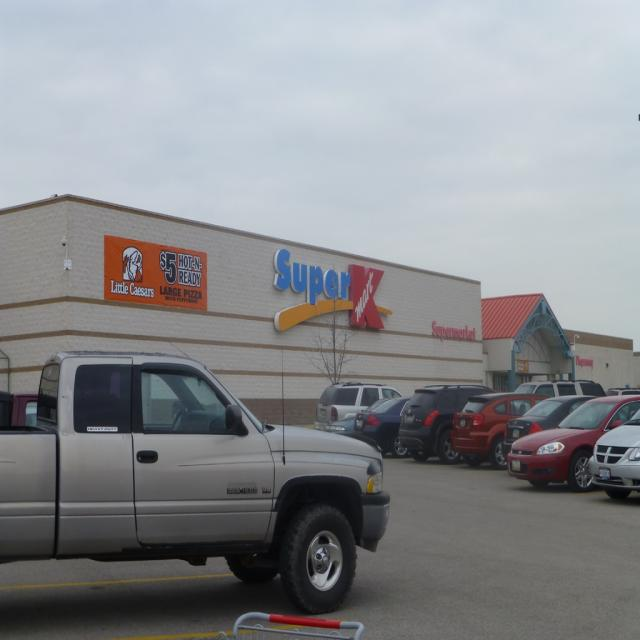car: (511, 377, 606, 399)
